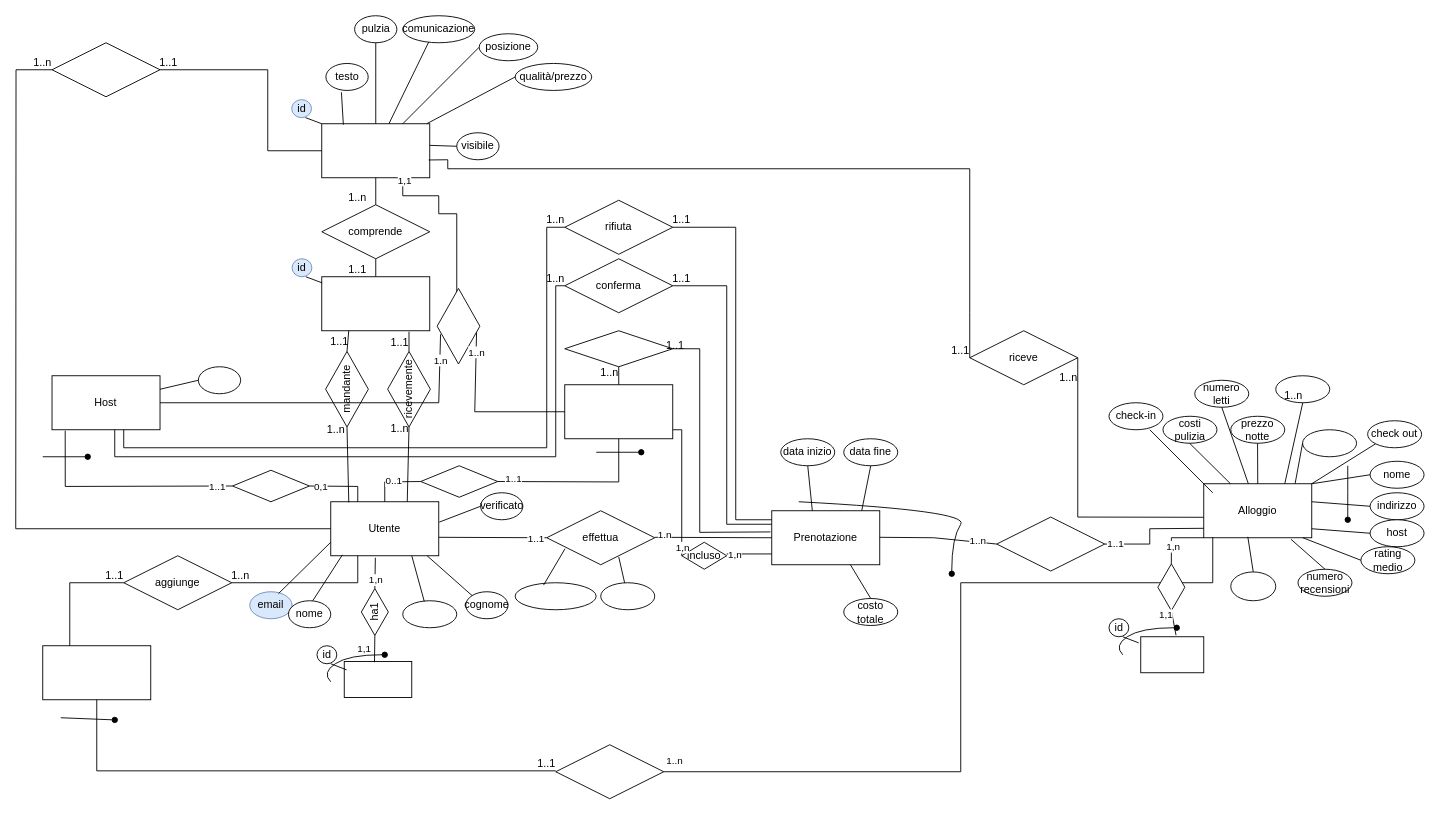
The diagram is 1440 pixels wide and 815 high, and some of its shapes have lost their labels. The centre of each missing label's shape, as x and y in pixels:
"badge" goes at point 219,380.
"cancella" goes at point 618,348.
"Commento" goes at point 375,303.
"contiene" goes at point 105,69.
"descrizione" goes at point 1329,443.
"ha2" goes at point 1171,587.
"metodo pagamento" goes at point 555,596.
"Ospite" goes at point 618,411.
"pagamento" goes at point 627,596.
"password" goes at point 429,614.
"photoAlloggio" goes at point 1172,654.
"photoUtente" goes at point 377,679.
"Preferiti" goes at point 96,672.
"R1" goes at point 270,485.
"R2" goes at point 459,481.
"Recensione" goes at point 375,150.
"riserva" goes at point 1050,543.
"selezionato" goes at point 609,771.
"servizio" goes at point 1302,389.
"tipo alloggio" goes at point 1253,586.
"valuta" goes at point 458,326.
